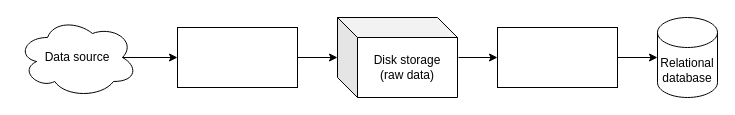
Image size: 735x115. Some labels were removed from this diagram. The shapes that lost their labels are listed below. From the top down, each one's box as (x1, y1, x2, y2) in pixels, then its label:
(176, 26, 298, 88): Acquisition (process)
(496, 26, 618, 88): Interpretation (process)
